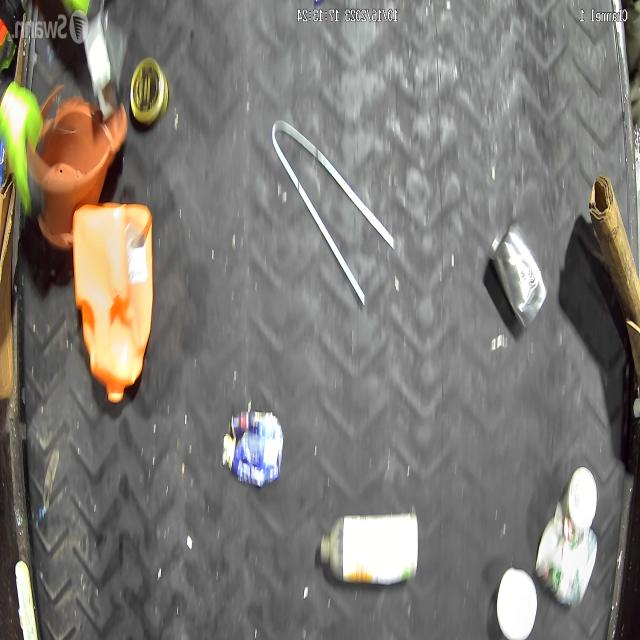can: (480, 227, 550, 337), (221, 404, 284, 485)
non_white_jug: (71, 200, 152, 419)
plastic_bottle: (318, 507, 420, 591)
